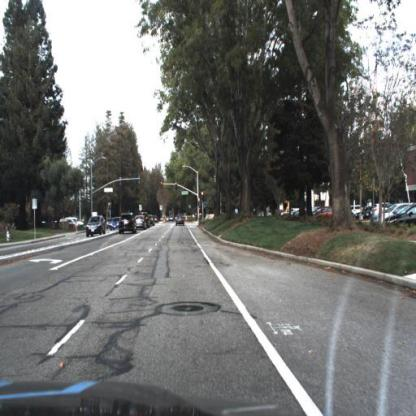car: (380, 202, 416, 230), (309, 202, 339, 222), (85, 214, 106, 240), (117, 213, 139, 236), (86, 215, 107, 239), (120, 214, 137, 235), (174, 209, 188, 224), (136, 214, 148, 231), (137, 216, 147, 228)
trafficLight-Red: (199, 188, 207, 204), (175, 182, 179, 196), (160, 181, 164, 193)
